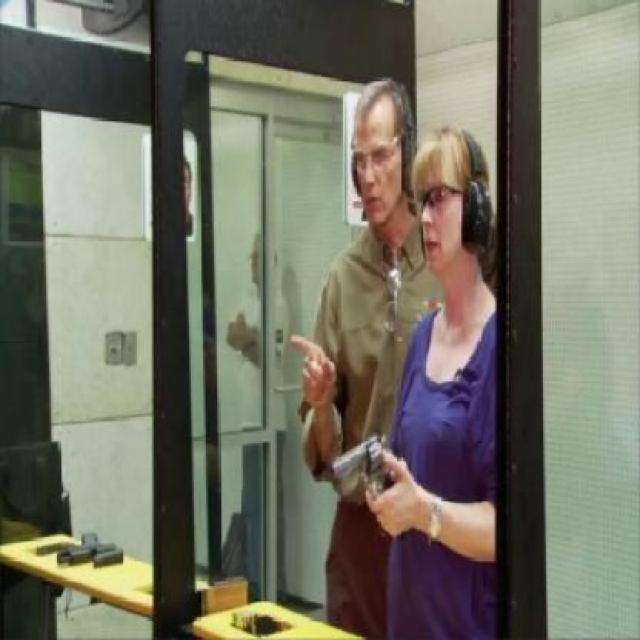gun: (330, 429, 396, 528)
